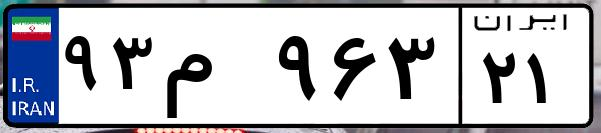1: (525, 38, 570, 115)
2: (475, 38, 525, 113)
3: (385, 28, 445, 110), (110, 28, 158, 98)
6: (330, 28, 385, 110)
9: (270, 28, 330, 110), (57, 26, 110, 100)
م: (158, 20, 270, 120)
